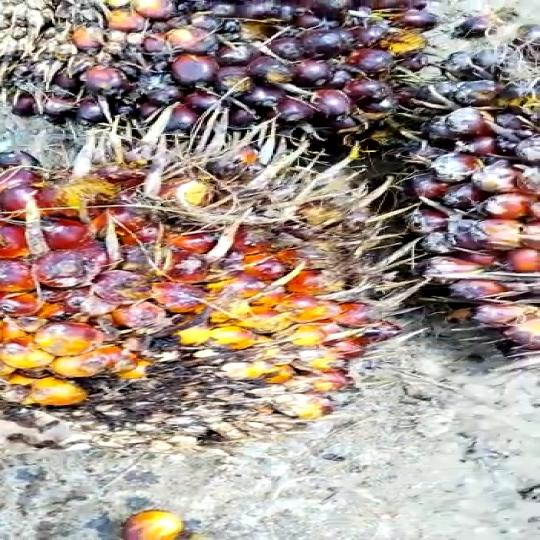masak: (0, 103, 402, 440), (0, 2, 540, 146)
